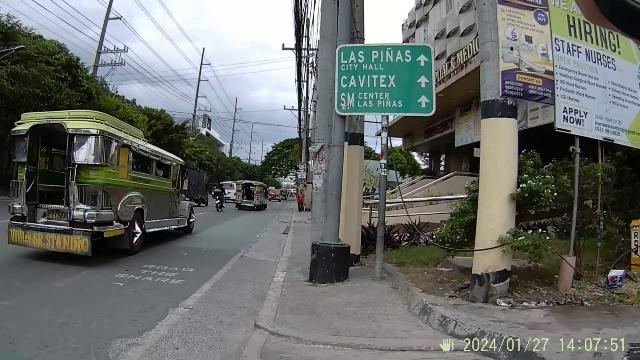car: (9, 109, 198, 254)
street_sign: (334, 42, 438, 278)
utility_post: (308, 0, 367, 284), (476, 0, 520, 304), (88, 0, 124, 94), (188, 43, 212, 129)
